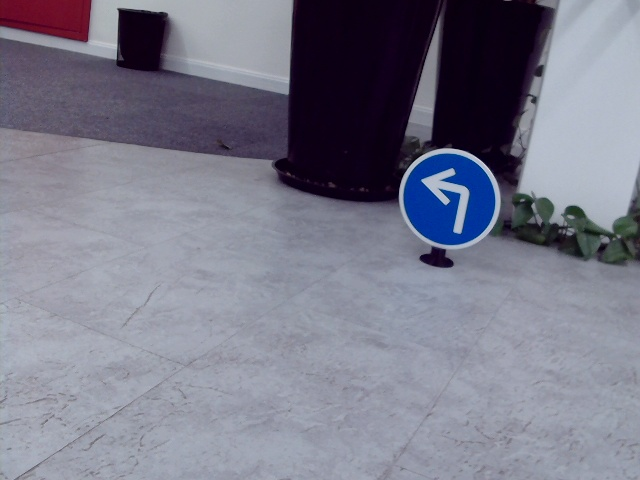turn_left: (419, 164, 470, 233)
